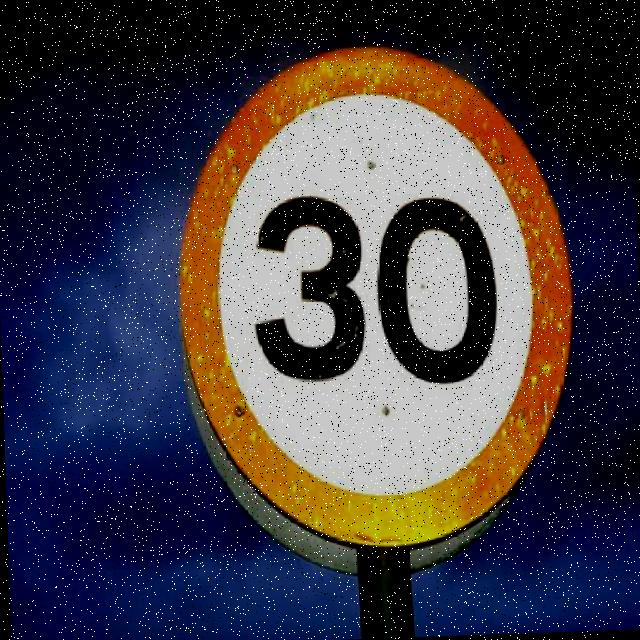Ograniczenie predkosci do 30: (170, 41, 583, 556)
